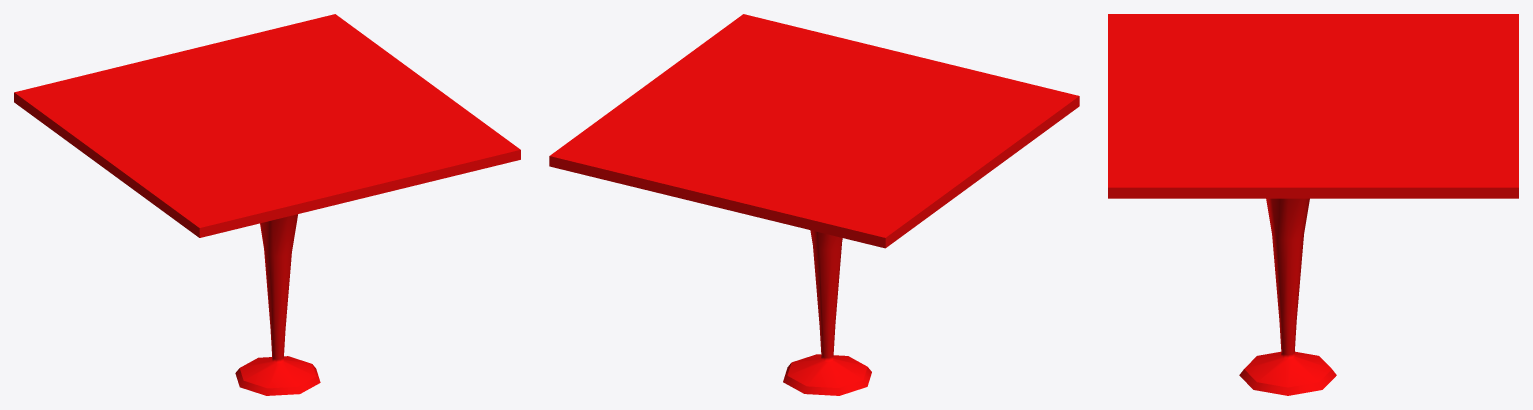
The model's file is Table.fbx.
3 renders of one model, left to right at view 1: azimuth 30°, elevation 25°; view 2: azimuth 150°, elevation 25°; view 3: azimuth 270°, elevation 25°, orthographic. The views are drawn at different scales.
Parts seen in each view (by area): view 1: pCube207; view 2: pCube207; view 3: pCube207.
Part boxes in pixels (x1,y1,x2,y2): pCube207: (14, 14, 520, 395); pCube207: (549, 14, 1079, 395); pCube207: (1108, 14, 1518, 395).
Bounding box in the file's own units: 88.47 × 65.33 × 88.47.
